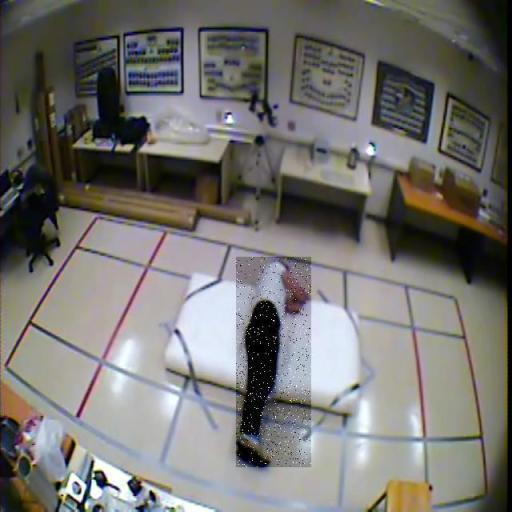Fall: (236, 257, 311, 467)
